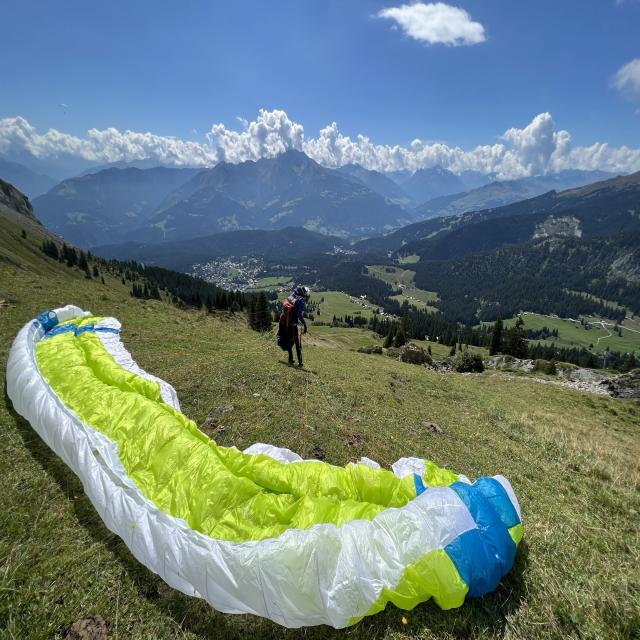paraglider: (5, 302, 524, 630)
